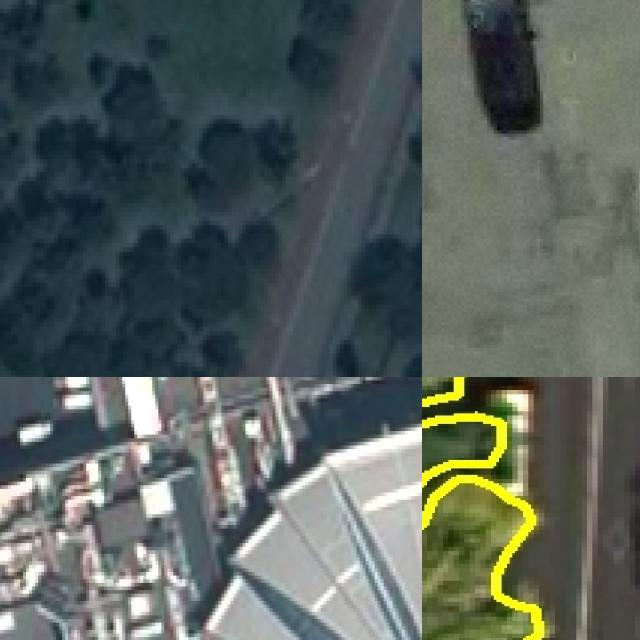trees: (1, 116, 128, 374), (423, 478, 540, 640), (178, 222, 251, 326), (186, 120, 258, 211), (290, 1, 355, 87), (1, 2, 39, 73), (423, 378, 460, 404)
